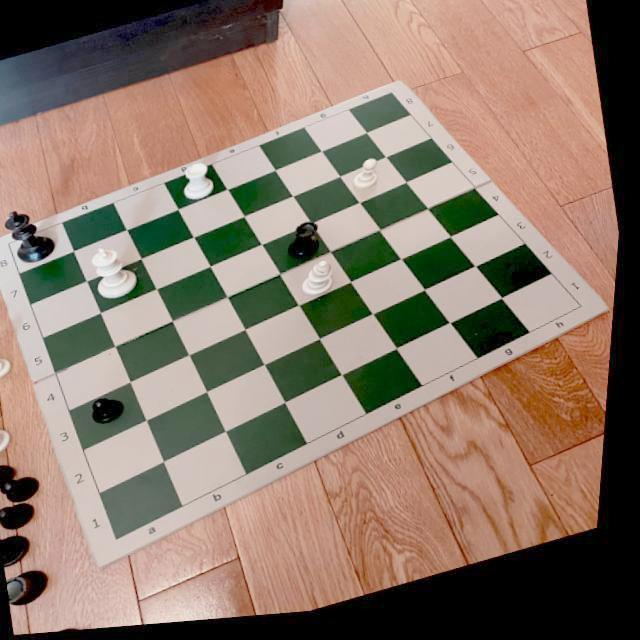chess-table-corners: (110, 532, 134, 550), (572, 311, 595, 325), (386, 91, 402, 107), (5, 238, 23, 252)
